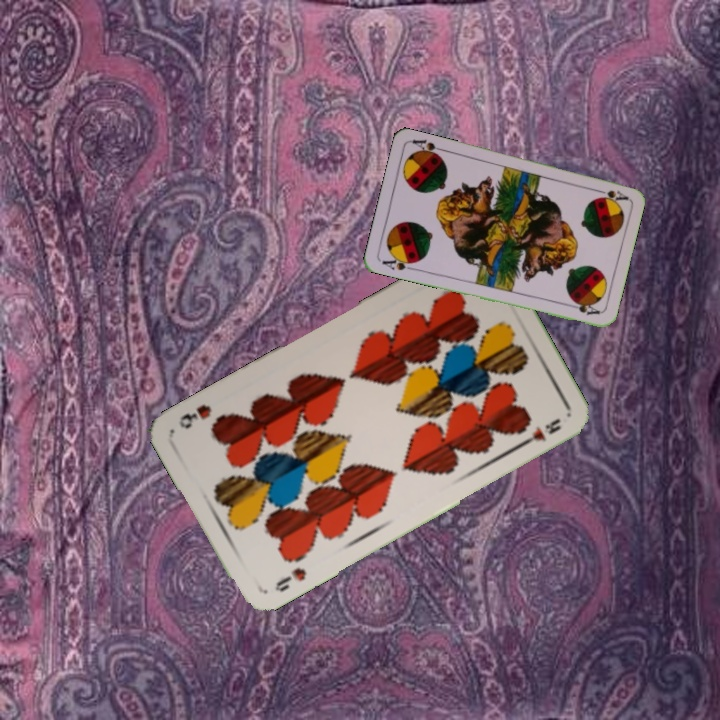H9: (270, 563, 309, 595)
SA: (378, 252, 419, 273), (590, 185, 630, 204)
